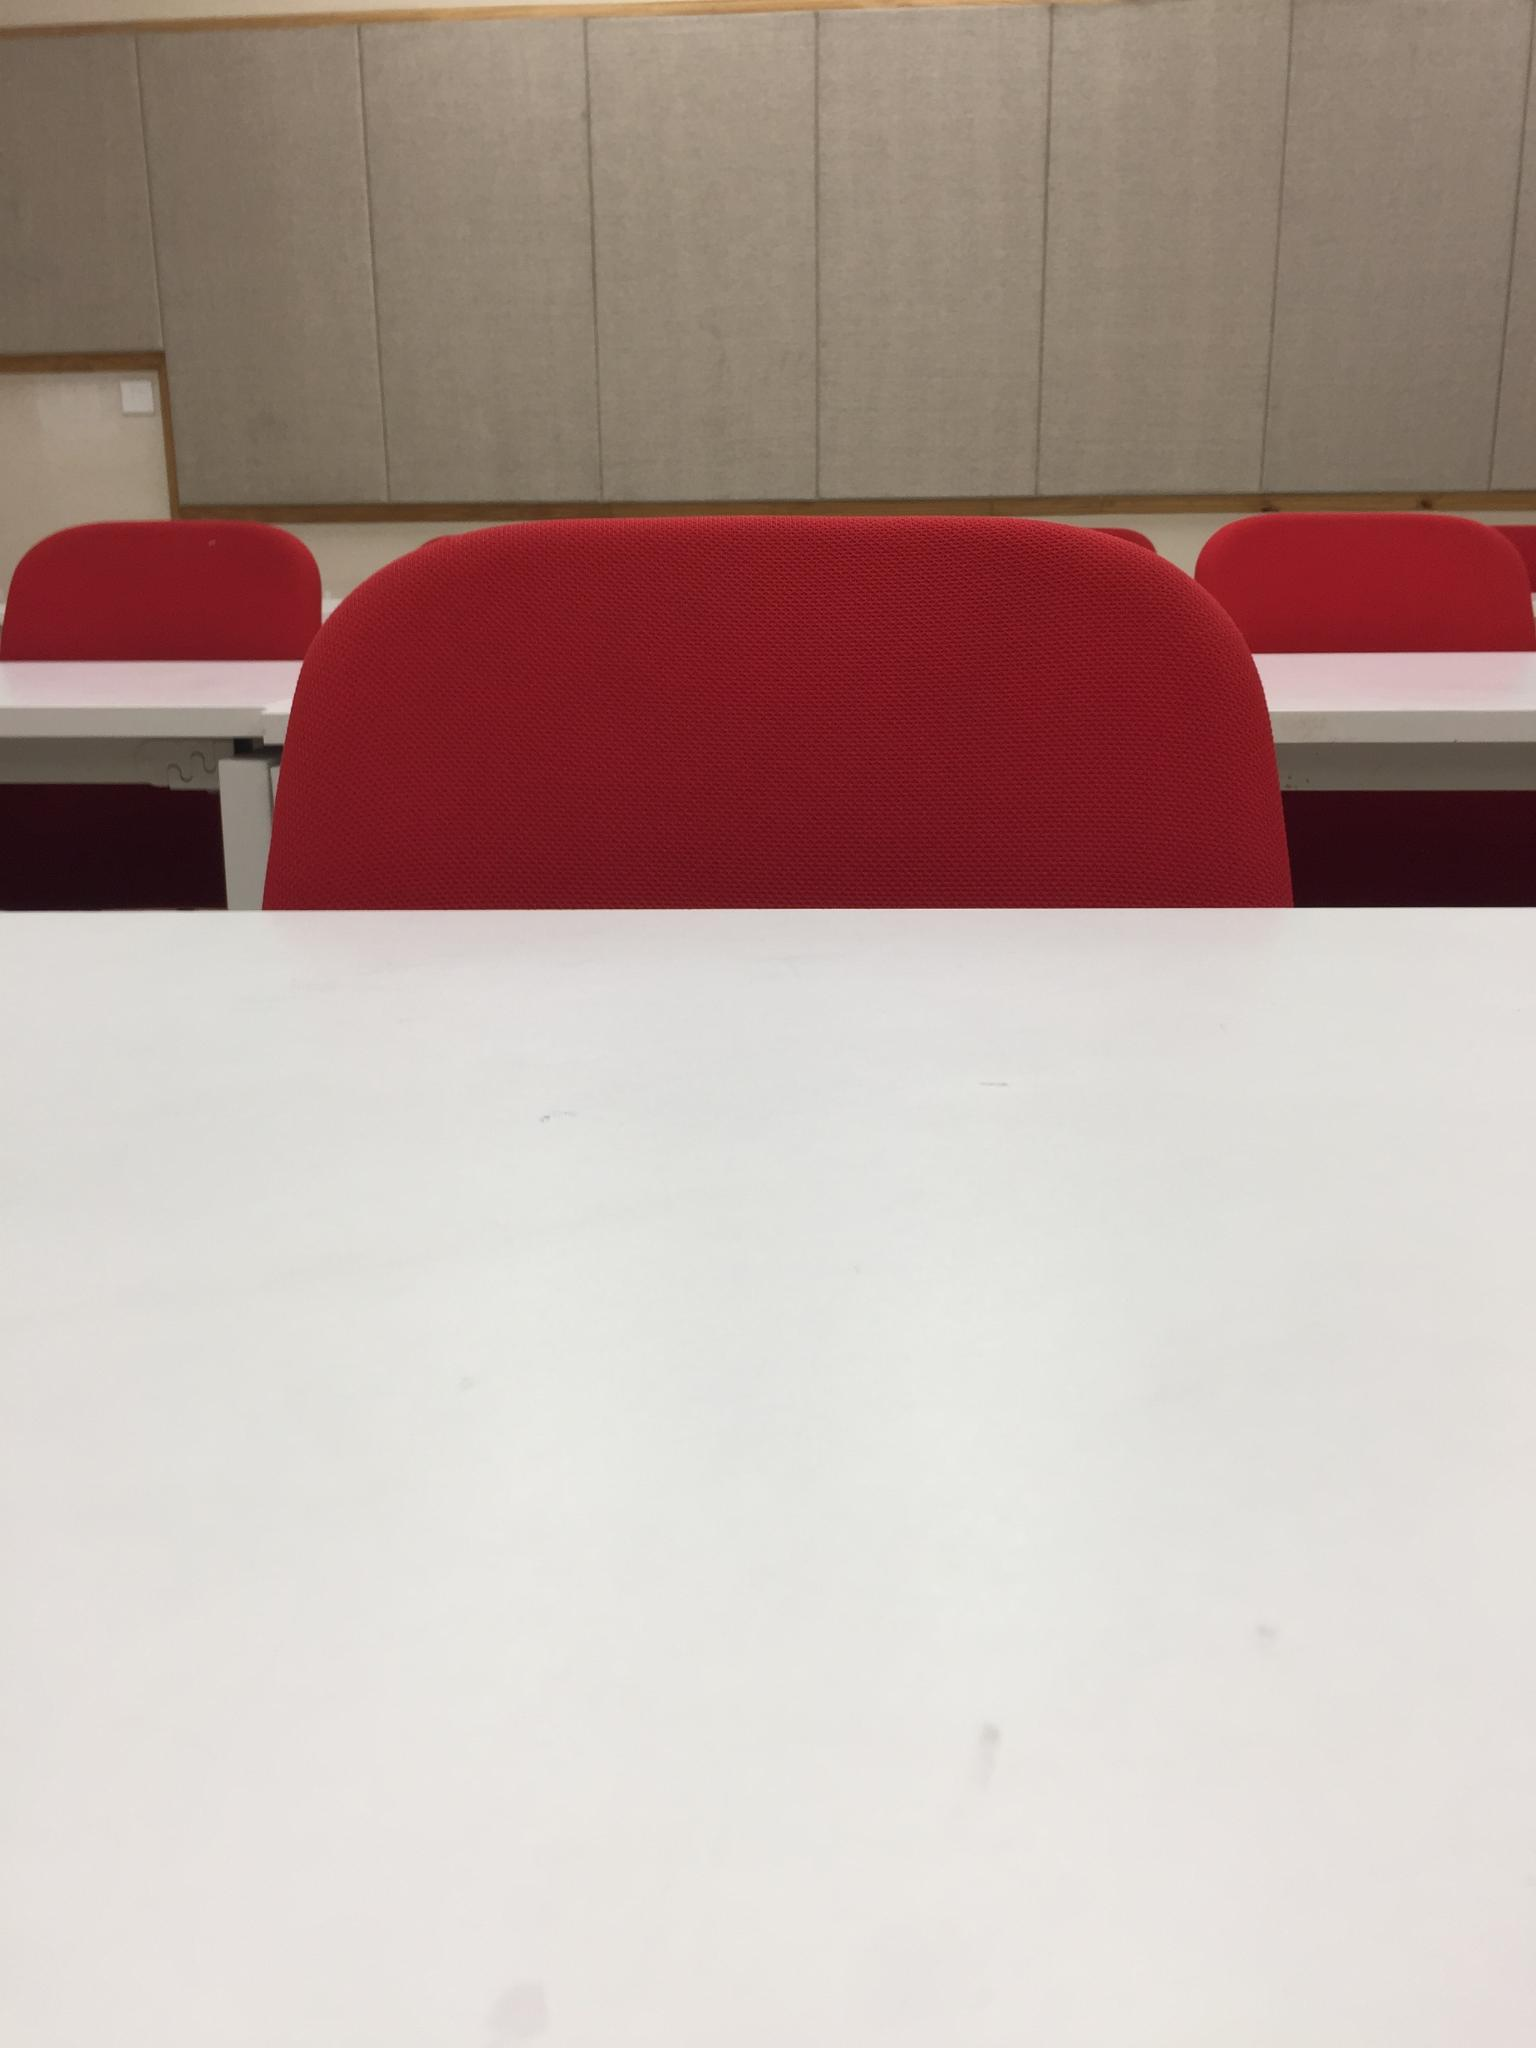chair: (261, 513, 1296, 910), (1175, 503, 1536, 937), (8, 503, 328, 916)
